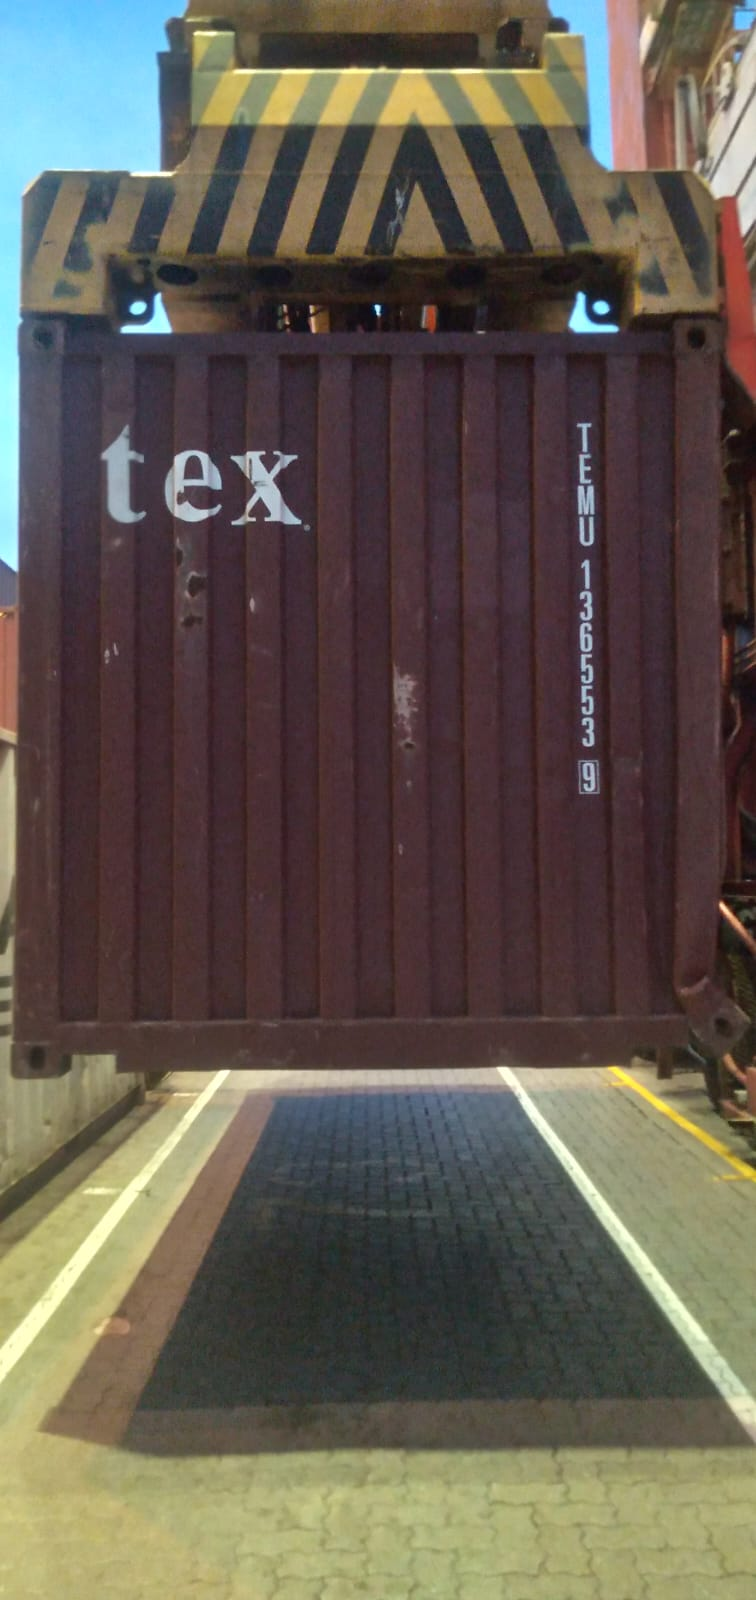minor: (163, 540, 236, 668)
